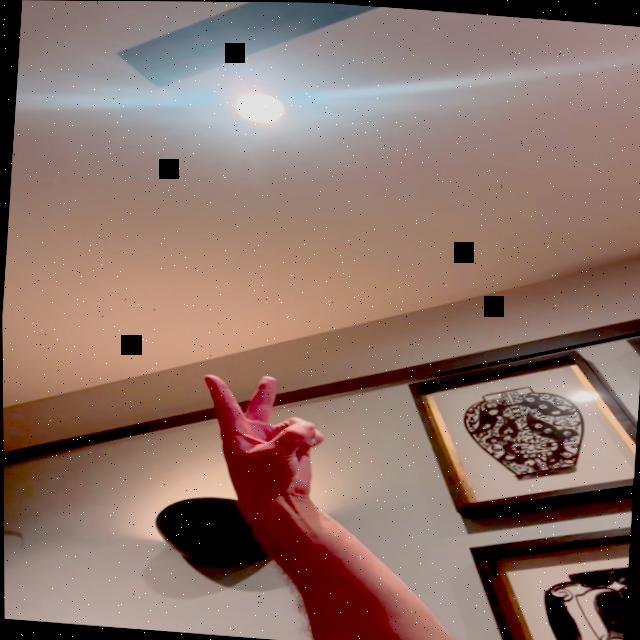Scissors: (191, 368, 325, 506)
